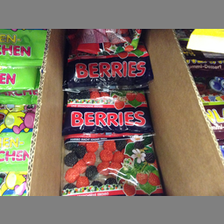candy: (63, 92, 157, 197), (67, 32, 149, 87)
